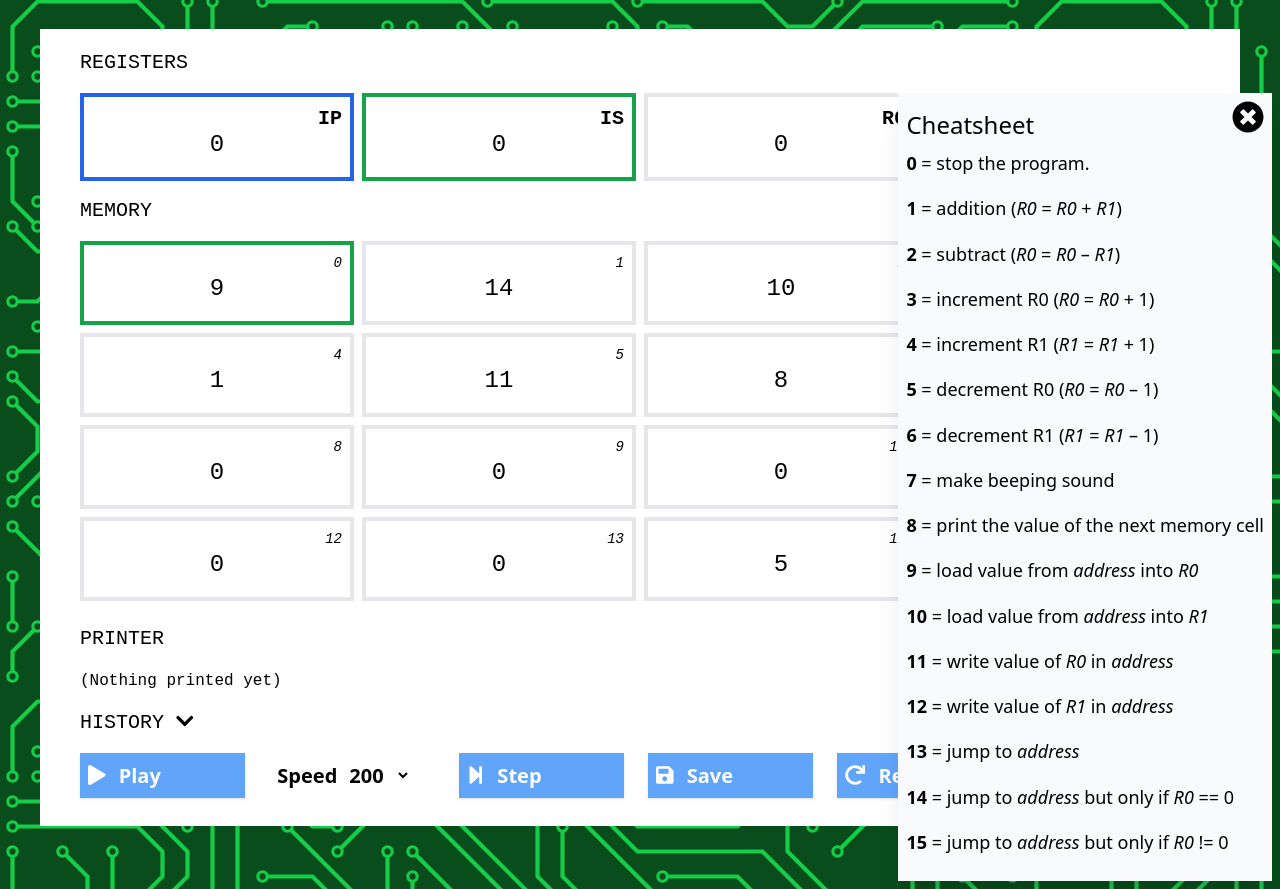
Test case: FantasyCpu component › should know how restore from history
The width and height of the screenshot is (1280, 889).
Select "1" in the dropdown at x=378, y=776, box [345,761,411,790]
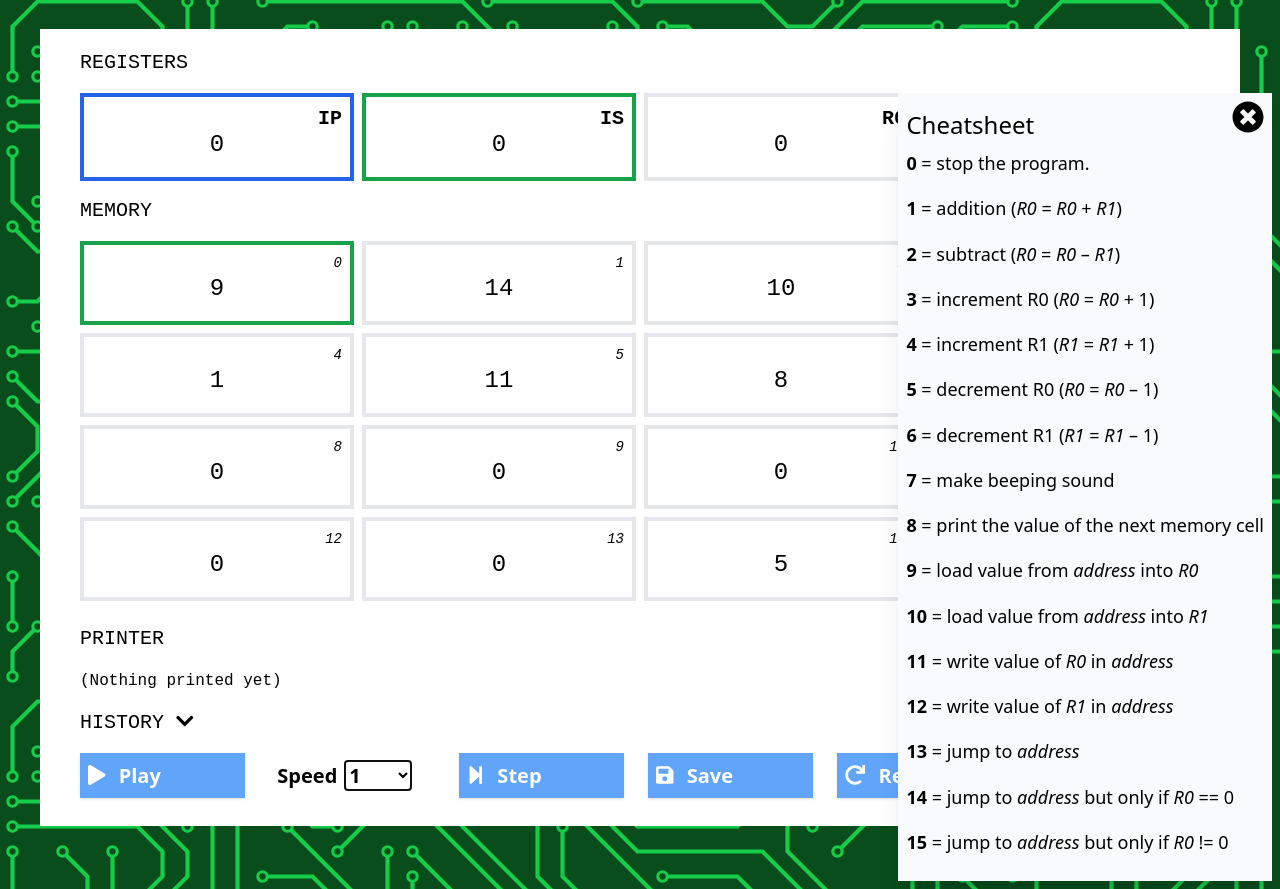
Click the button "Play".
click(163, 776)  # box [80,753,245,798]
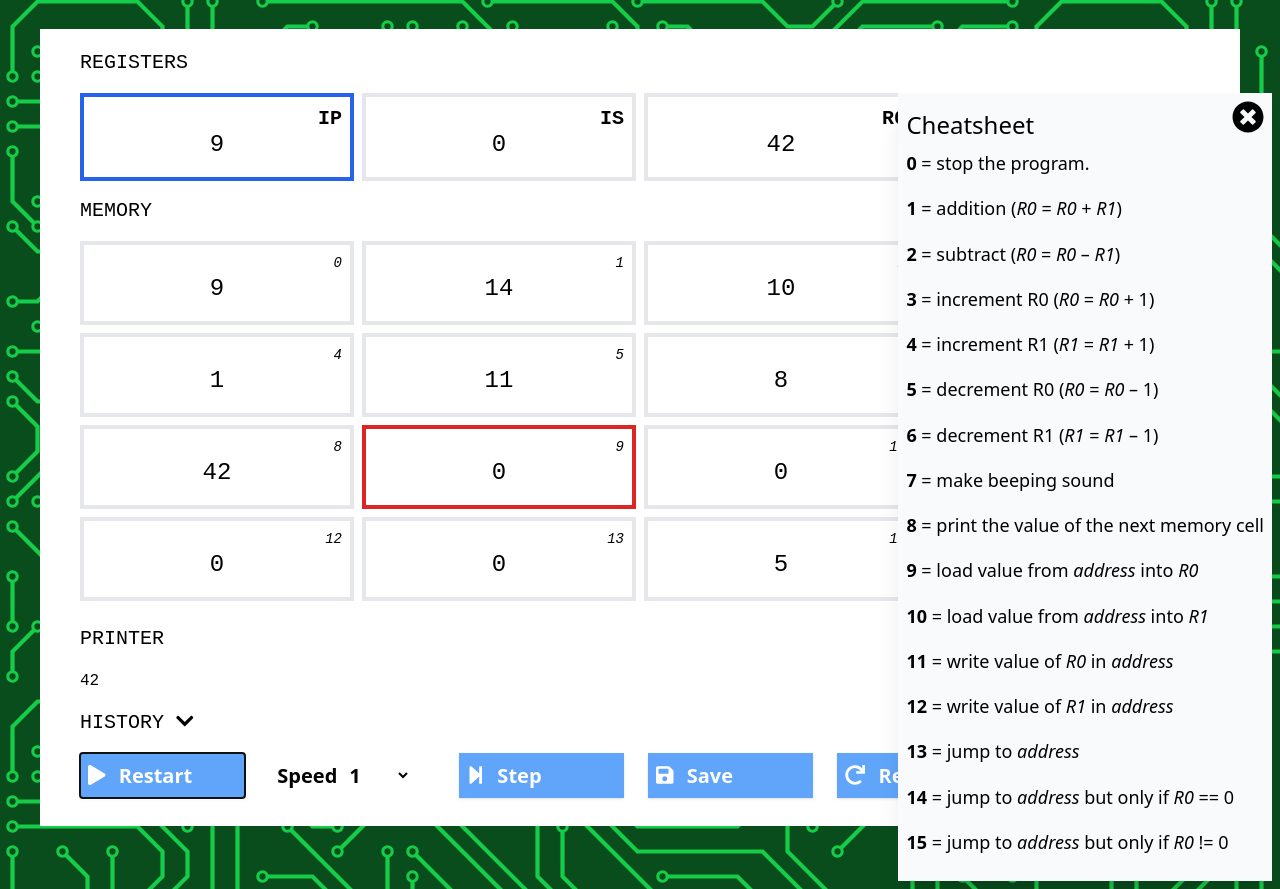
Expected: the text with test id "line" reads "42", [80,672,99,690]
Expected: the text with test id "IP" reads "9", [210,131,224,158]
Expected: the text with test id "R0" reads "42", [767,131,795,158]
Click the text "history".
click(137, 722)  # box [80,710,194,734]
(page scrolled)
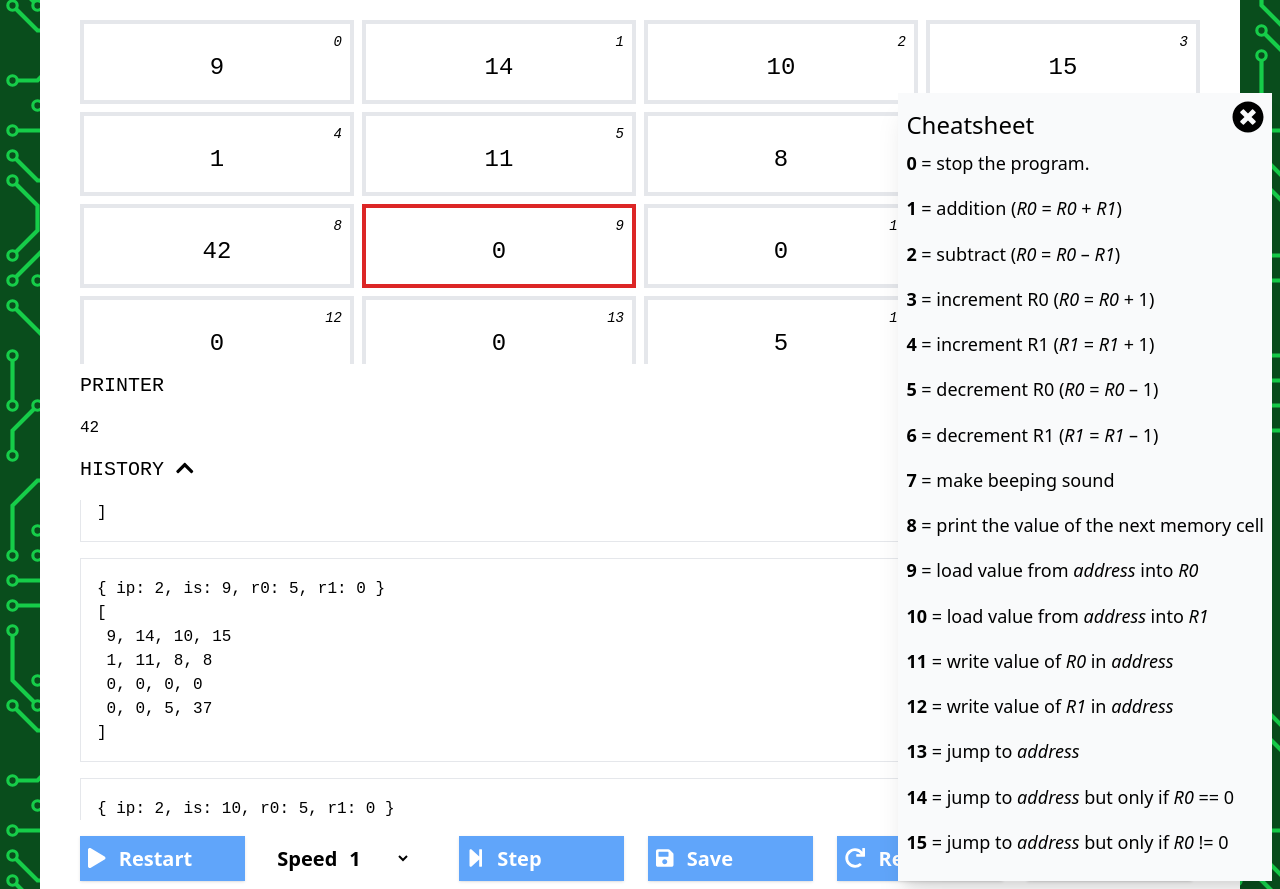
Click the element with test id "history-2".
click(640, 660)  # box [80,558,1200,762]
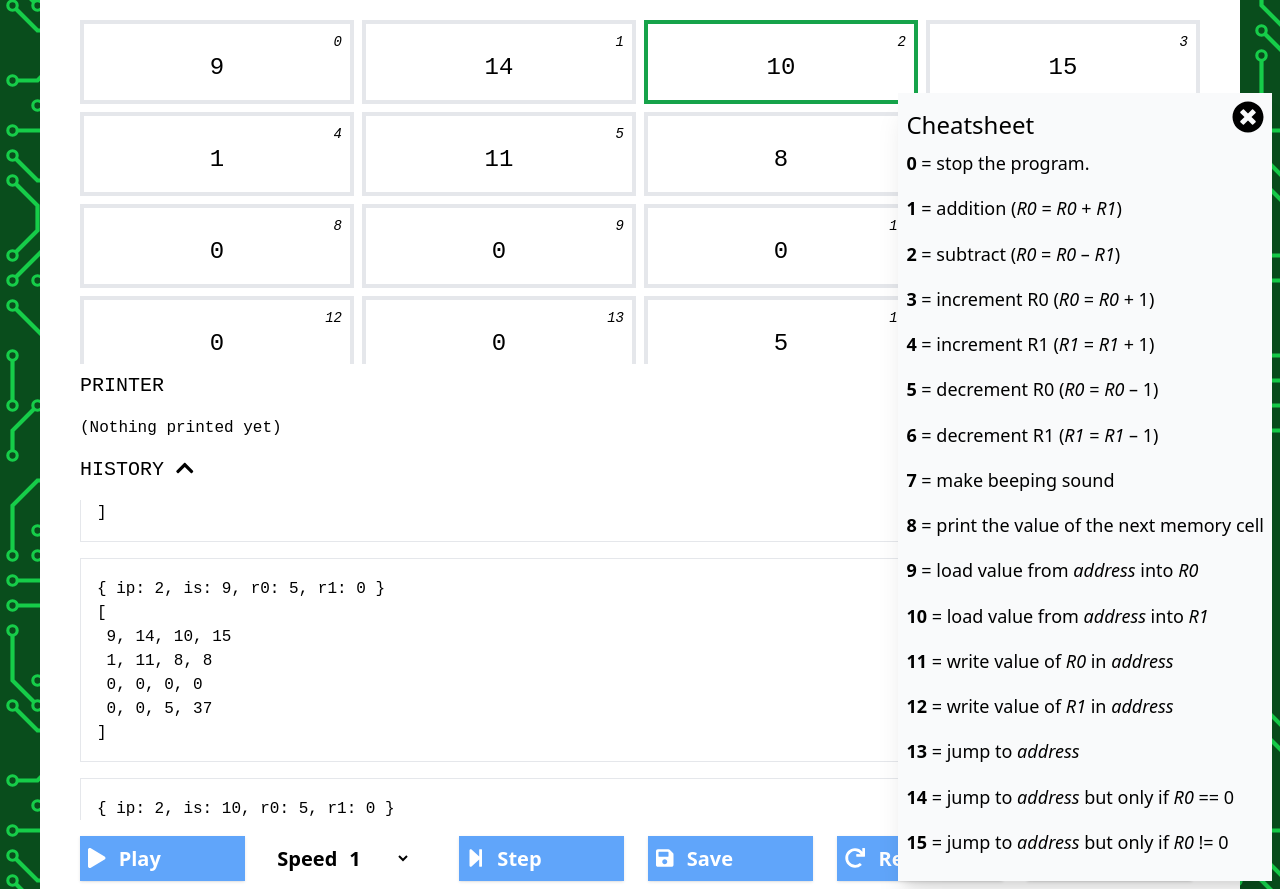
Expected: the text with test id "line" is gone
Expected: the field with test id "memory-8" holds "0", [185,236,249,268]
